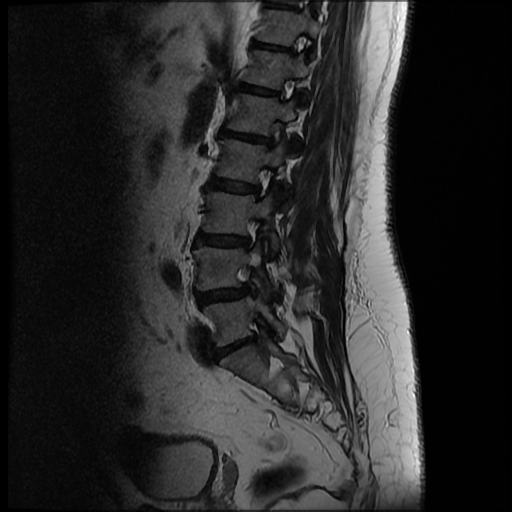LFS0: (230, 210, 274, 256), (243, 159, 281, 209)
